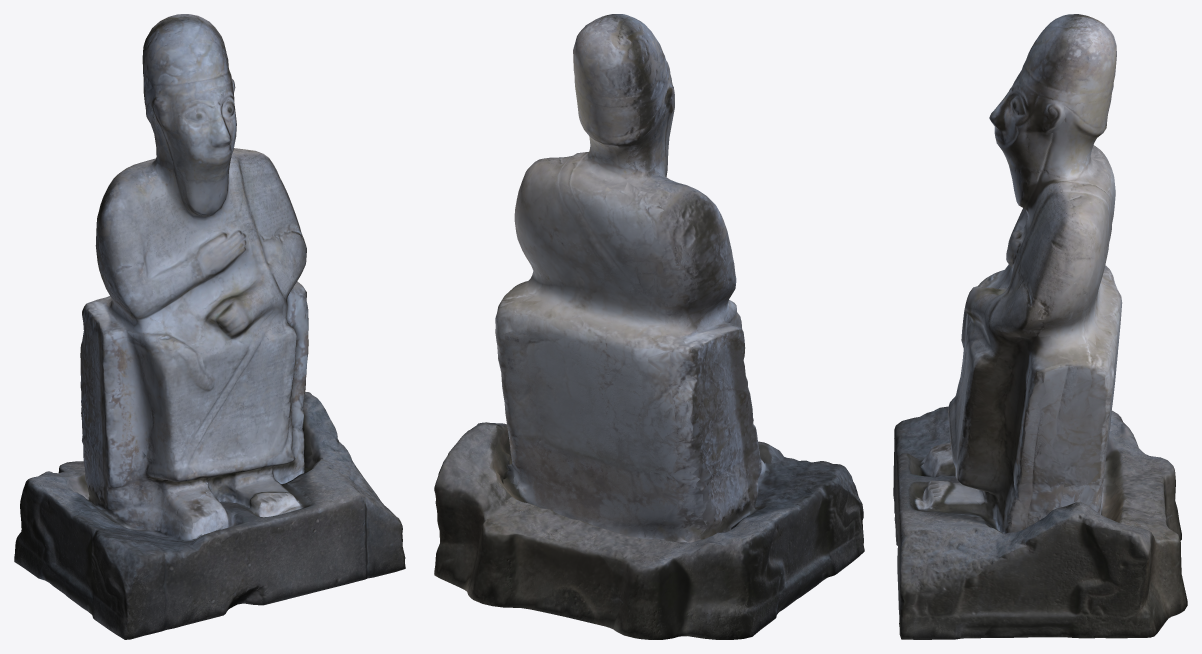
The model's file is 03levantstatue.obj.
3 views of the same model, side by side, from view 1: azimuth 30°, elevation 25°; view 2: azimuth 150°, elevation 25°; view 3: azimuth 270°, elevation 25° (orthographic). The views are drawn at different scales.
Visible parts, largest first — view 1: levant-statue; view 2: levant-statue; view 3: levant-statue.
Part boxes in pixels (box(x1,y1,x2,y2)): levant-statue: box(14, 14, 405, 639); levant-statue: box(434, 14, 864, 639); levant-statue: box(893, 14, 1187, 639).
Size of the model in its own units: 1.21 by 2.1 by 1.02.
Materials: 2 (2 with a texture image).
